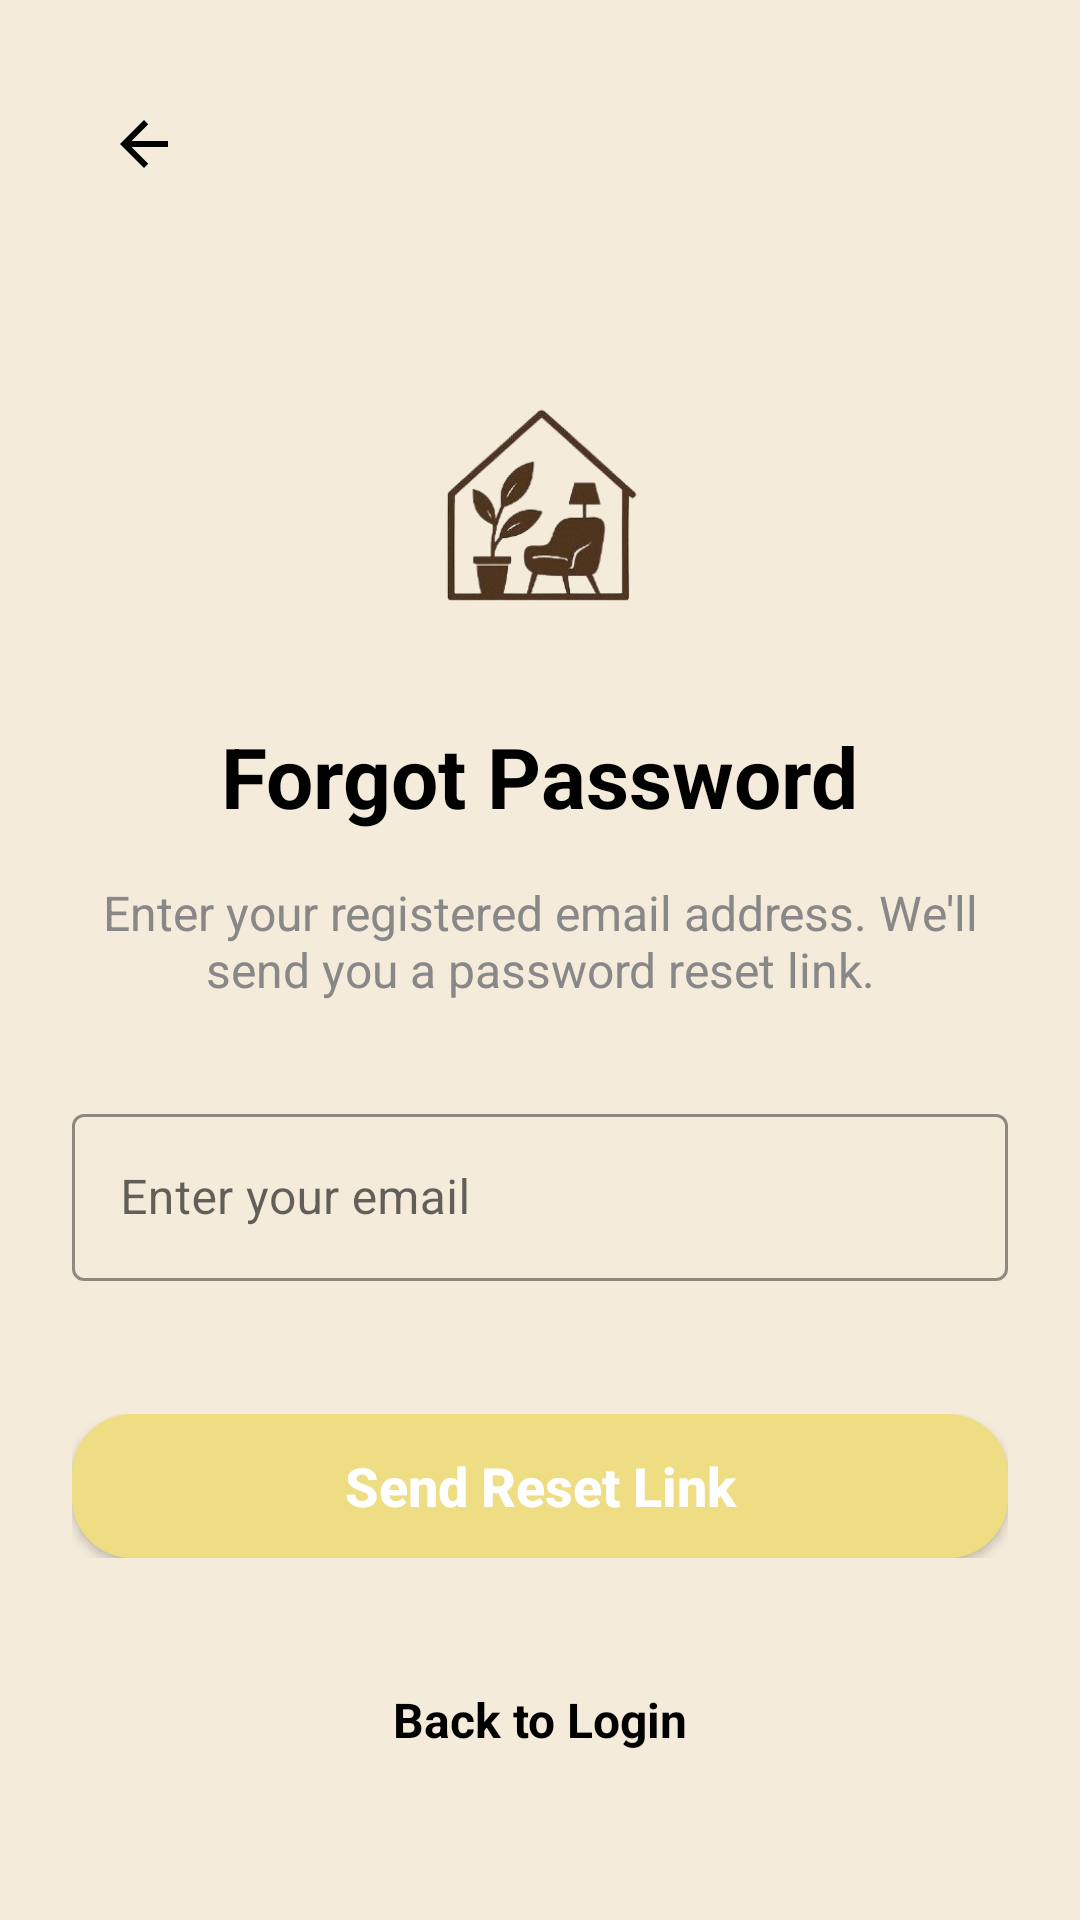

Point at icon controls on the screen. Image size 1080w x 1920h, points as [x,y].
back: [144,144]
